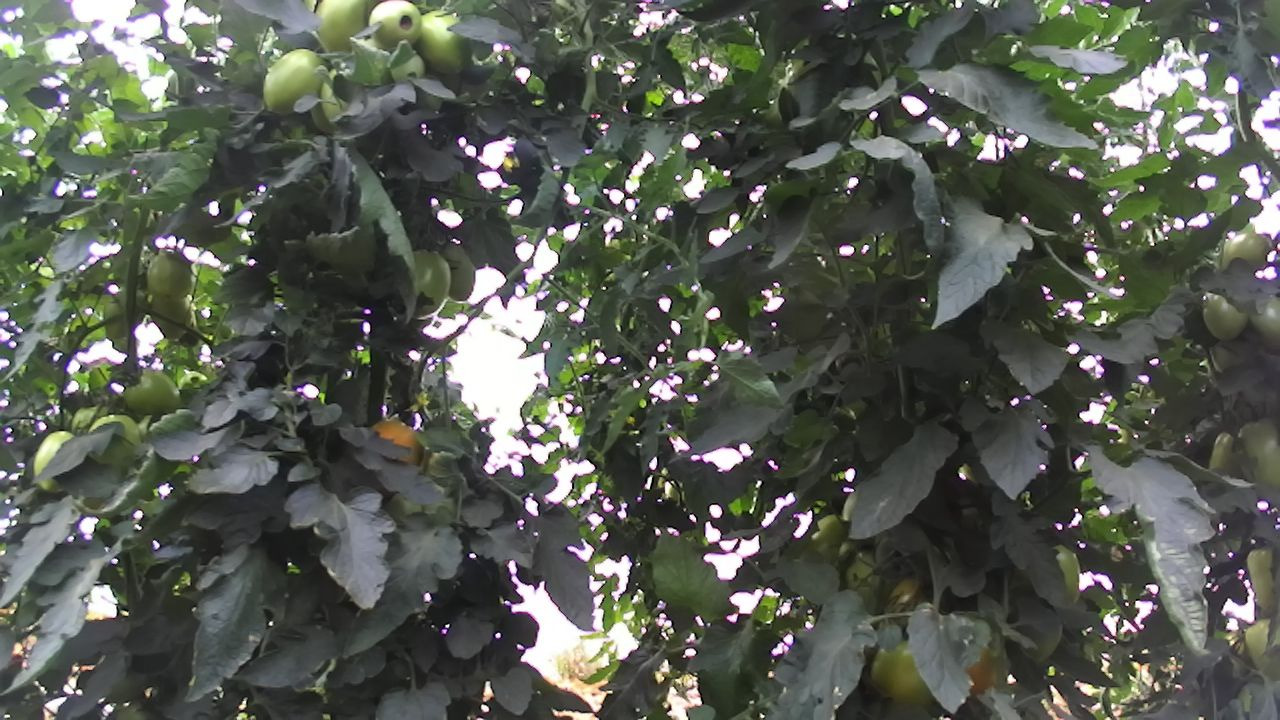tomato: (256, 44, 334, 118), (1232, 411, 1280, 510), (412, 9, 474, 77), (404, 241, 455, 320), (1195, 283, 1252, 347), (121, 363, 183, 420), (364, 0, 426, 55), (143, 241, 196, 303), (1245, 288, 1280, 359)
